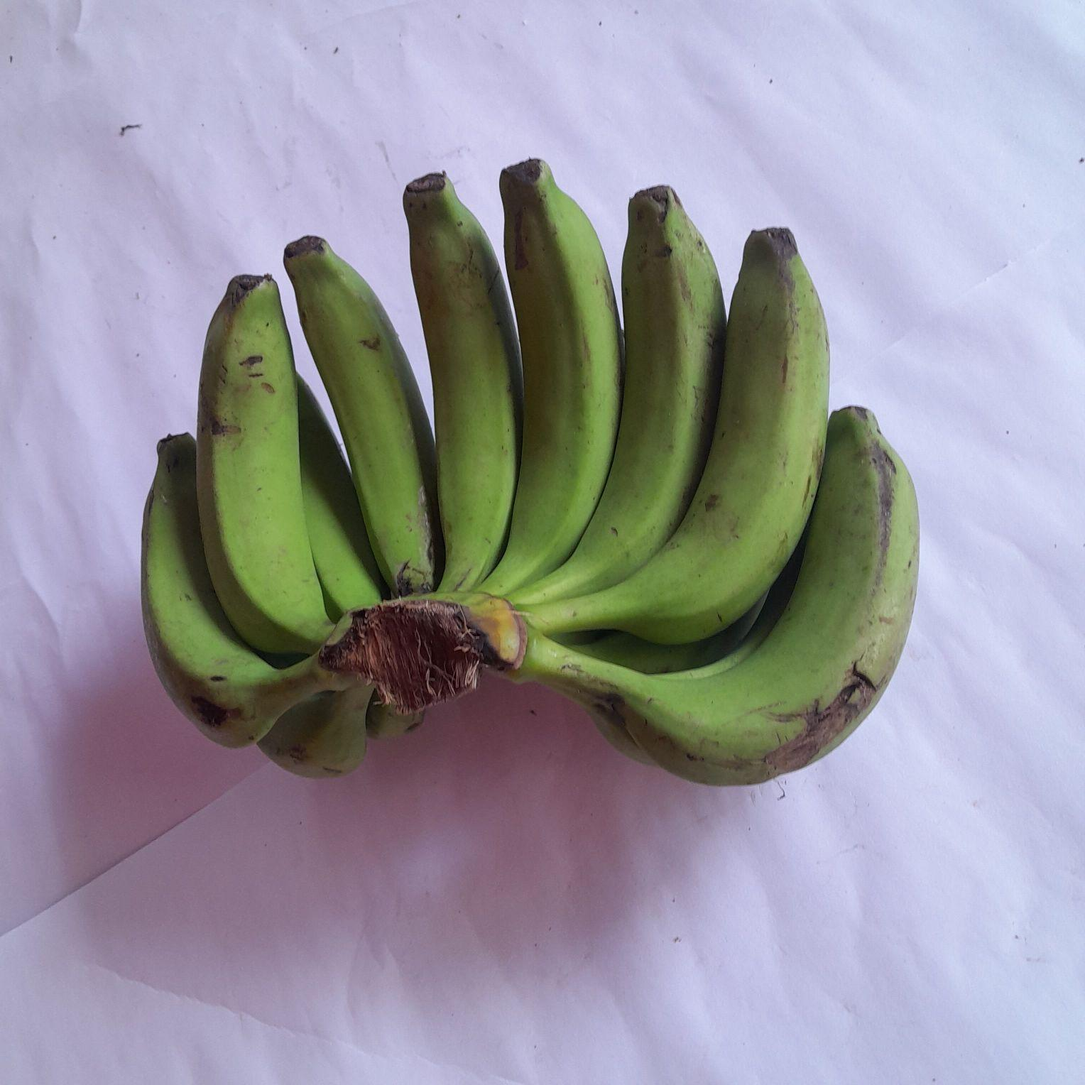Banana Unripe: (511, 407, 918, 784), (528, 229, 829, 644), (517, 186, 725, 602), (142, 434, 360, 747), (479, 159, 621, 595), (284, 237, 443, 595), (197, 275, 333, 653), (405, 174, 521, 592), (298, 377, 388, 621)
